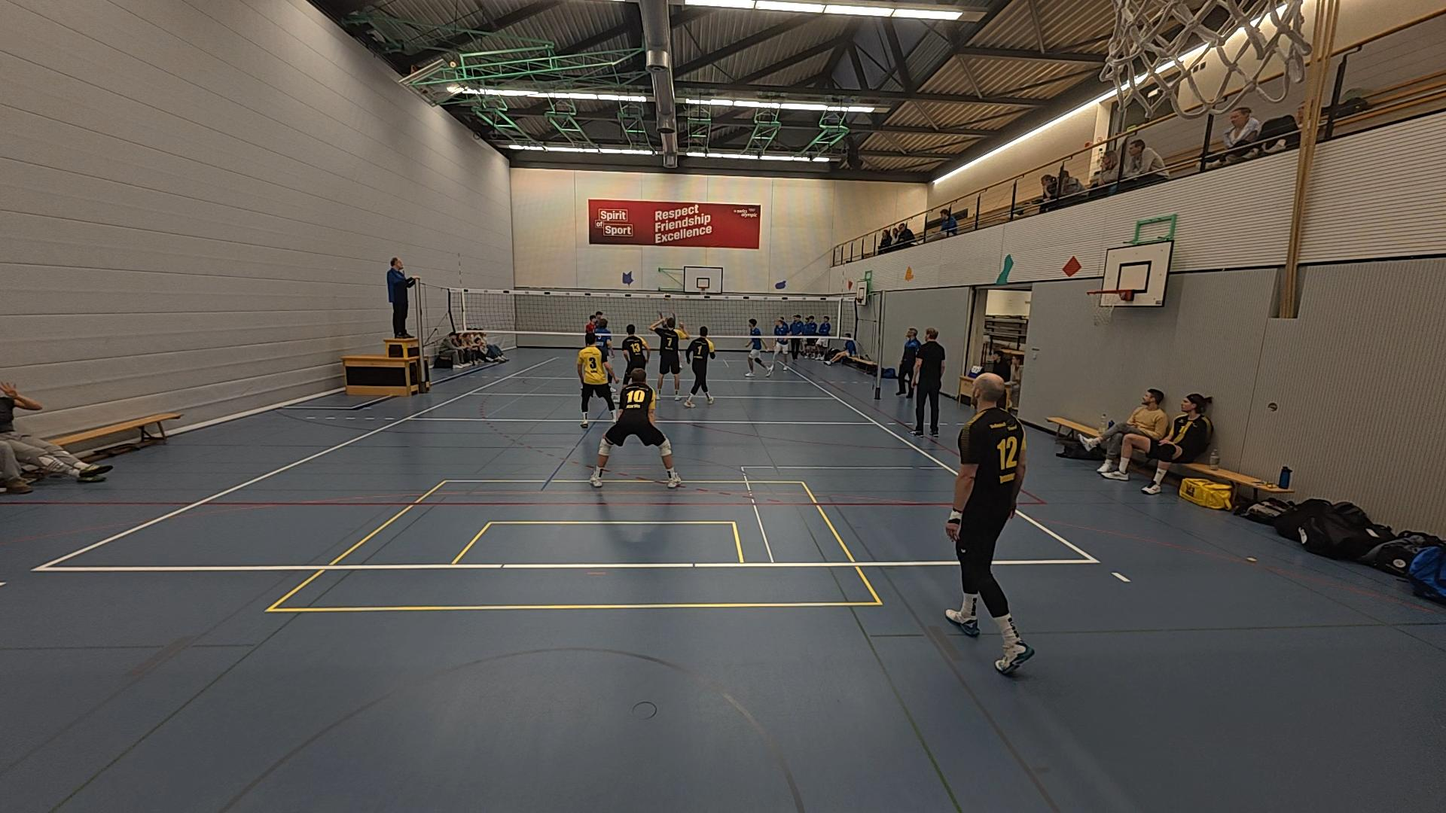Player: (944, 376, 1031, 674), (589, 367, 682, 489), (647, 314, 688, 402), (578, 332, 615, 427), (684, 325, 717, 409), (618, 324, 649, 389), (591, 320, 618, 393), (745, 318, 774, 377), (579, 312, 605, 376), (769, 318, 790, 374), (593, 310, 608, 361)
Receive: (657, 308, 682, 369)
ball: (662, 291, 673, 302)
